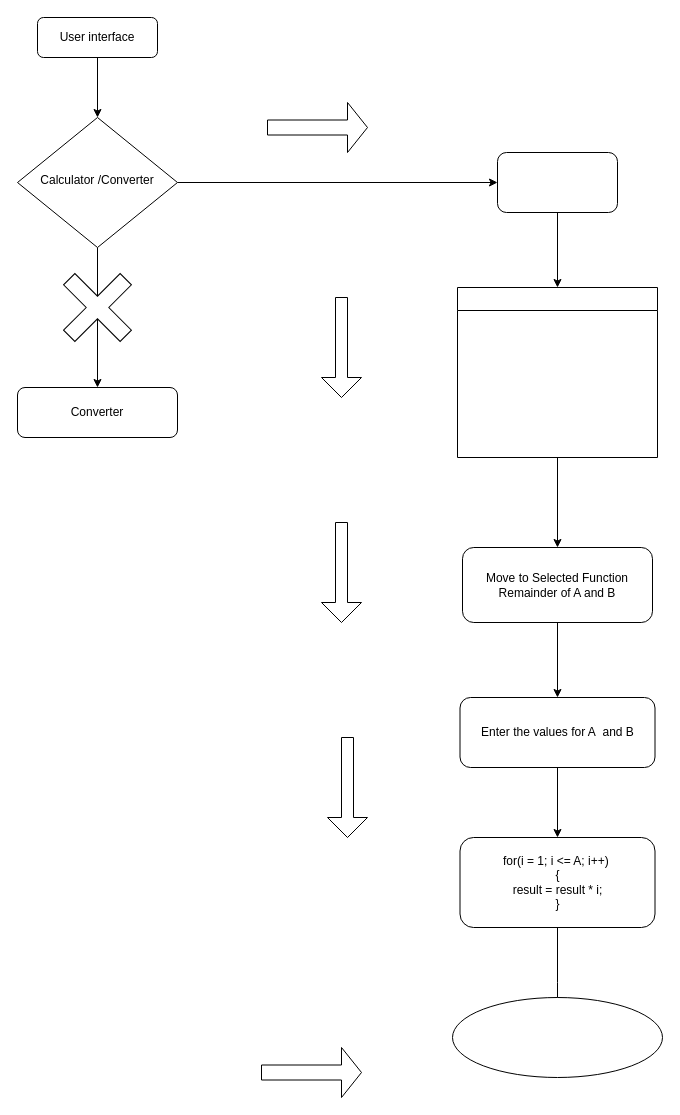
Some shapes in this 680 by 1115 pixel diagram are drawn without their labels. Each missing label, with the centre of its shape:
Calculator: point (557, 182)
Function of Calculator 14.Remainder of A and B: point (557, 372)
Result for the user: point (557, 1037)
